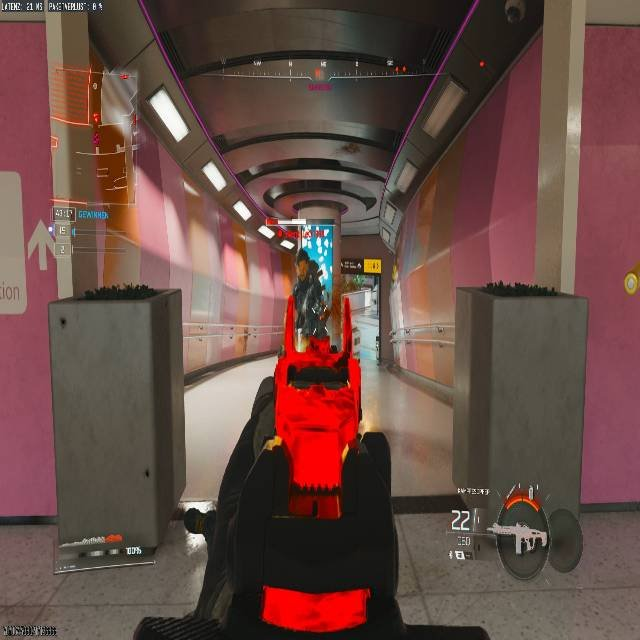head: (297, 248, 310, 261)
player: (294, 254, 330, 342)
